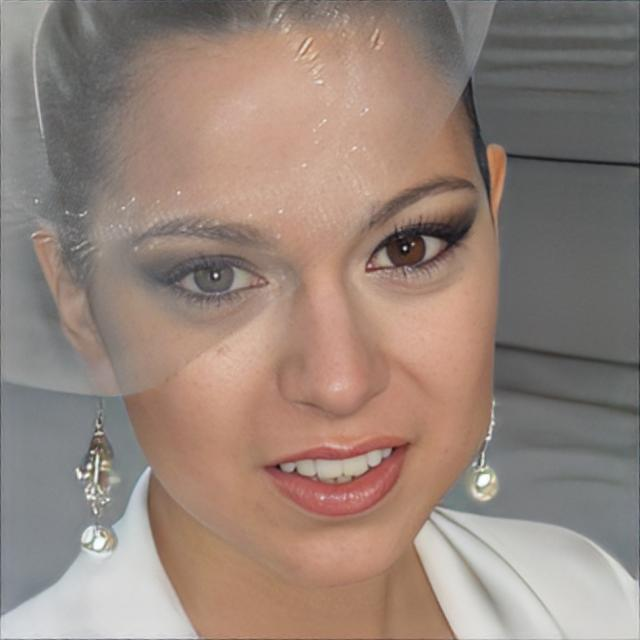disgust: (109, 32, 501, 590)
